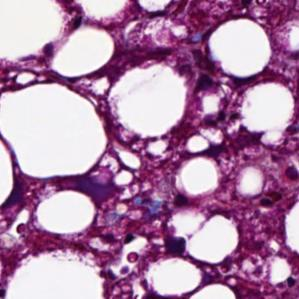inflammation: (212, 249, 269, 282), (254, 183, 287, 215)
